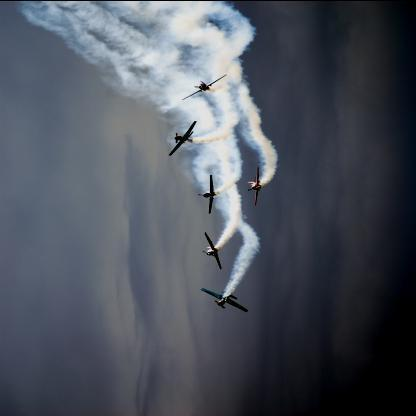aircraft: (159, 118, 203, 158), (174, 72, 230, 102), (198, 284, 248, 312), (243, 163, 268, 205), (198, 167, 218, 216), (200, 229, 224, 269)
